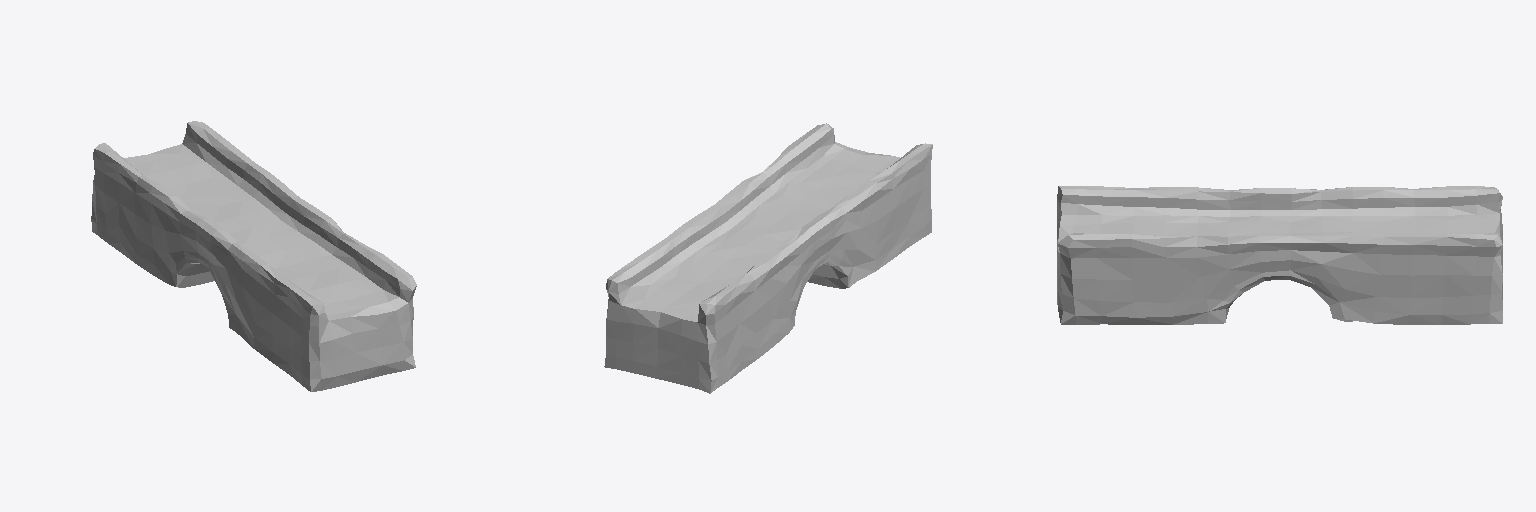
File: BridgeFixed.obj
3 views of the same model, side by side, from view 1: azimuth 30°, elevation 25°; view 2: azimuth 150°, elevation 25°; view 3: azimuth 270°, elevation 25° (orthographic).
Parts seen in each view (by area): view 1: StoneBridge; view 2: StoneBridge; view 3: StoneBridge.
Boxes of the visible parts, box(x1,y1,x2,y2) form: StoneBridge: box(91, 121, 416, 391); StoneBridge: box(604, 123, 932, 393); StoneBridge: box(1057, 186, 1502, 324).
Size of the model in its own units: 0.7798 by 0.6016 by 2.74.